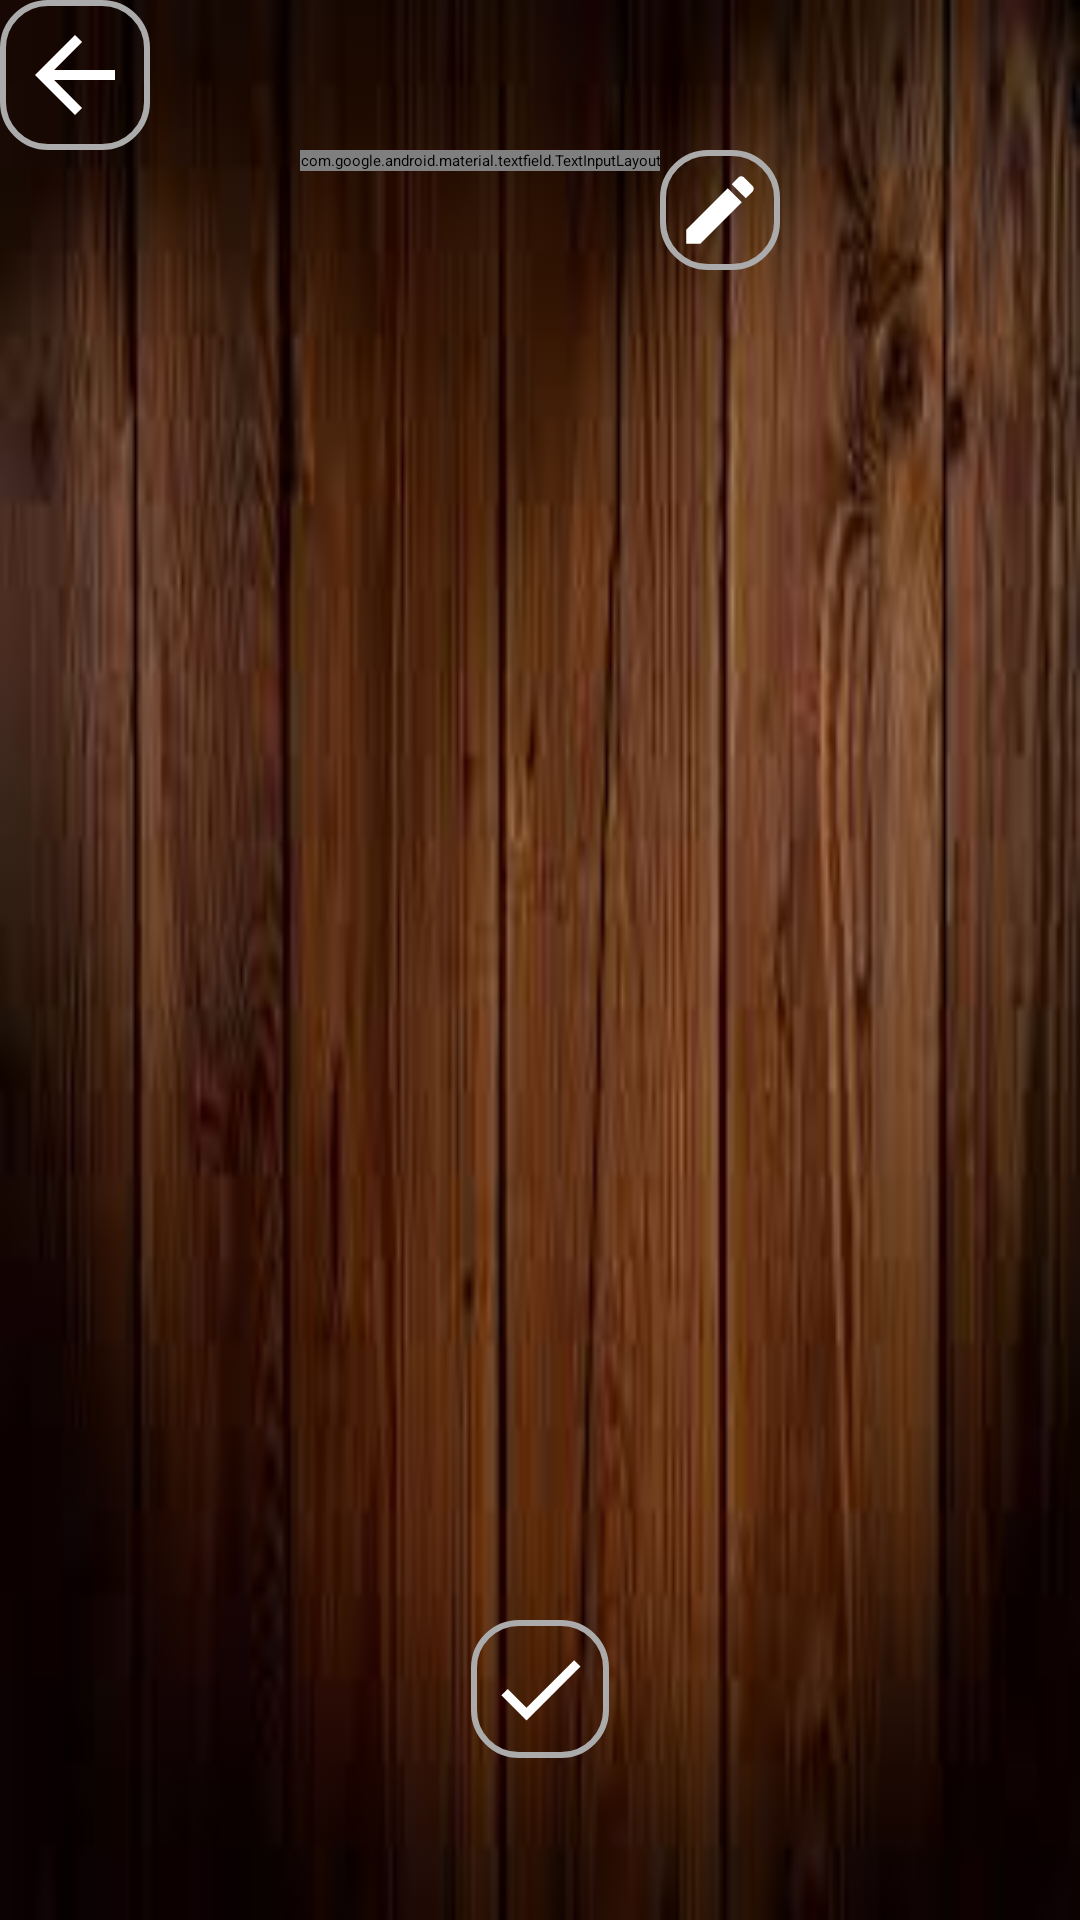

Icon click points for this 1080×1920 phone screenshot, format (x,y):
arrow back: (75,75)
check: (540,1689)
create: (720,210)
